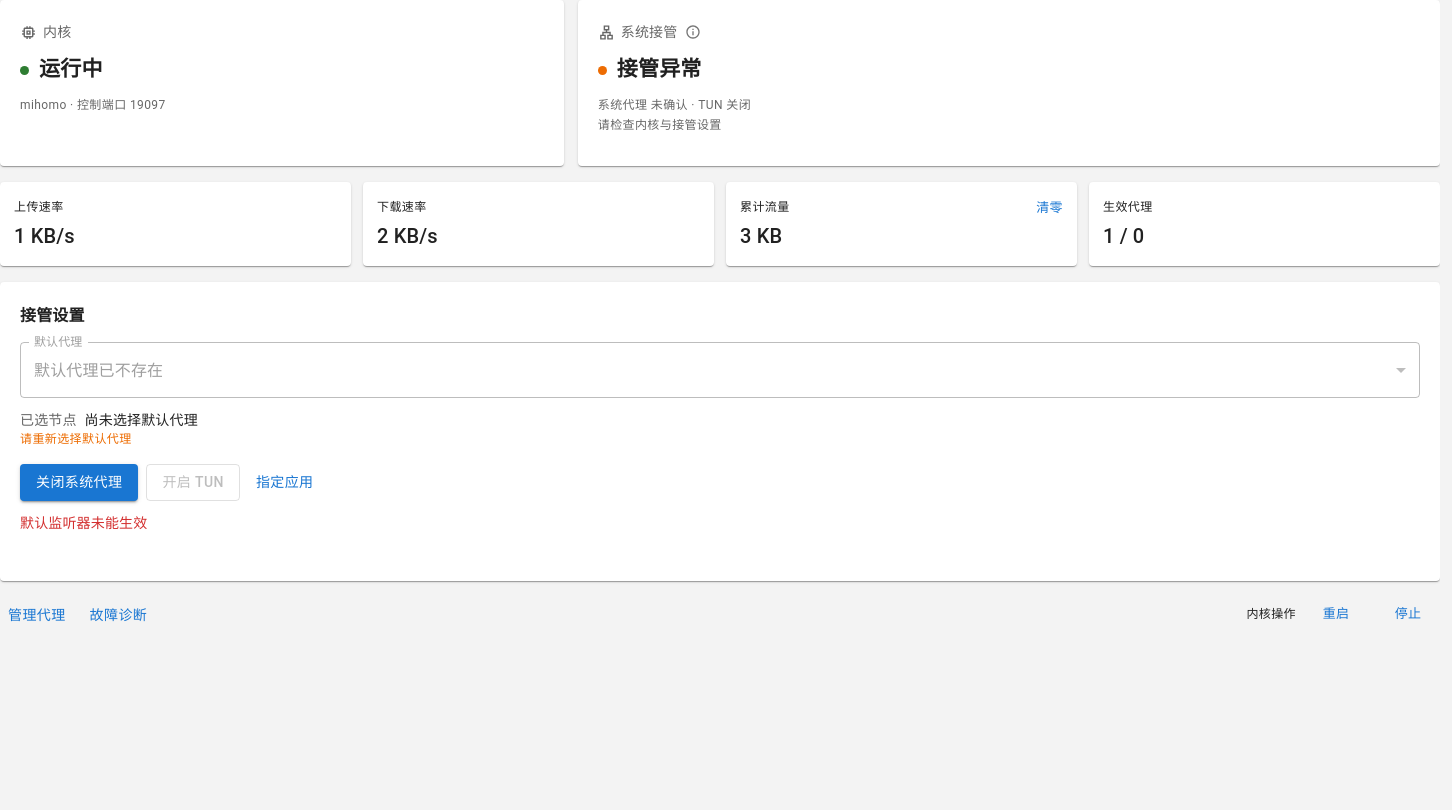
Test case: allows closing an unconfirmed request even if the proxy reference is gone
Expected: the text "接管异常" is shown, [617, 54, 702, 86]
Expected: the text "系统代理 未确认 · TUN 关闭" is shown, [598, 98, 751, 112]
Click the button "关闭系统代理".
click(79, 482)  # box [20, 464, 138, 500]
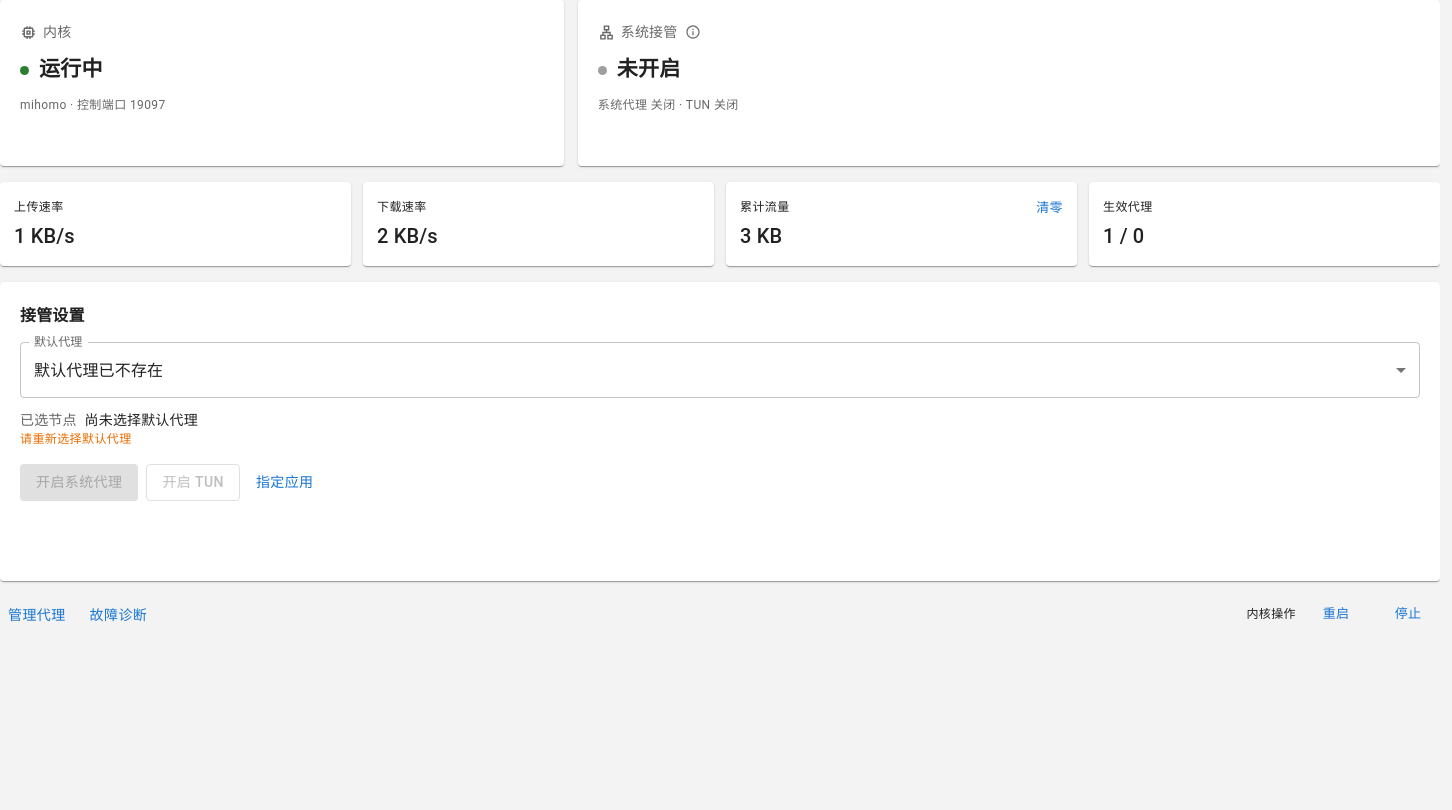
Expected: the text "未开启" is shown, [617, 54, 680, 86]
